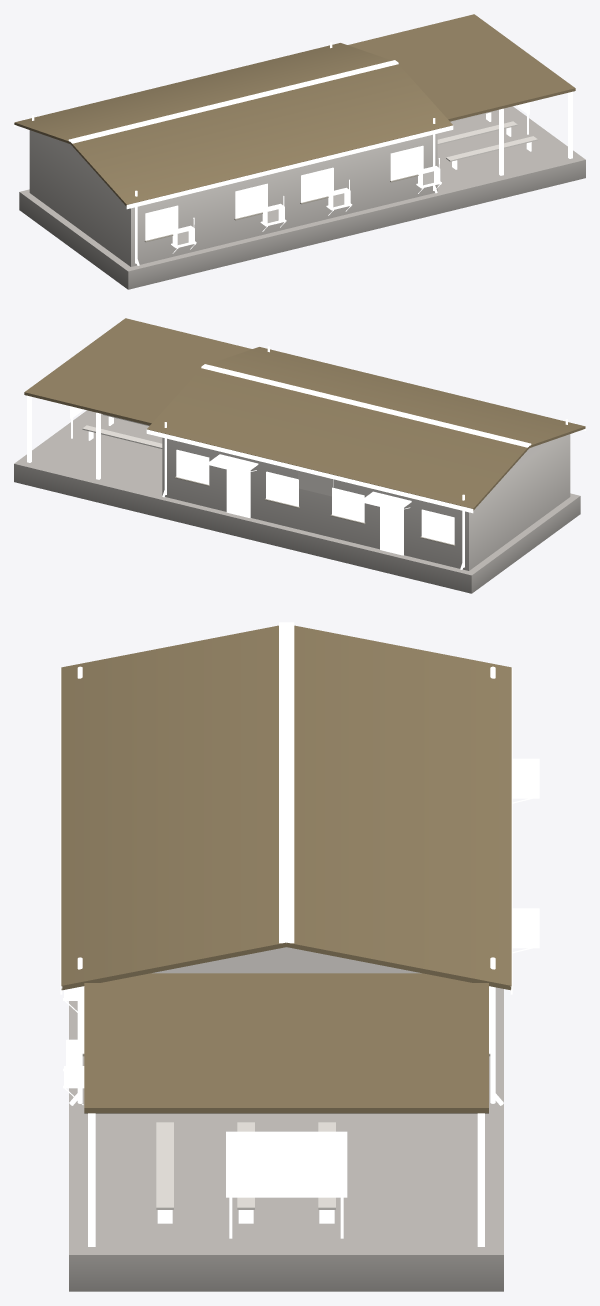
File: training_facility.glb
3 views of the same model, one above another, from view 1: azimuth 30°, elevation 25°; view 2: azimuth 150°, elevation 25°; view 3: azimuth 270°, elevation 25° (orthographic). The views are drawn at different scales.
Parts seen in each view (by area): view 1: training_facility_LOD0; view 2: training_facility_LOD0; view 3: training_facility_LOD0.
Boxes of the visible parts, box(x1,y1,x2,y2) form: training_facility_LOD0: box(14, 14, 585, 289); training_facility_LOD0: box(14, 318, 585, 593); training_facility_LOD0: box(60, 622, 539, 1291).
Size of what is drawn, in the model's own units: 21.05 by 4.79 by 9.47.
